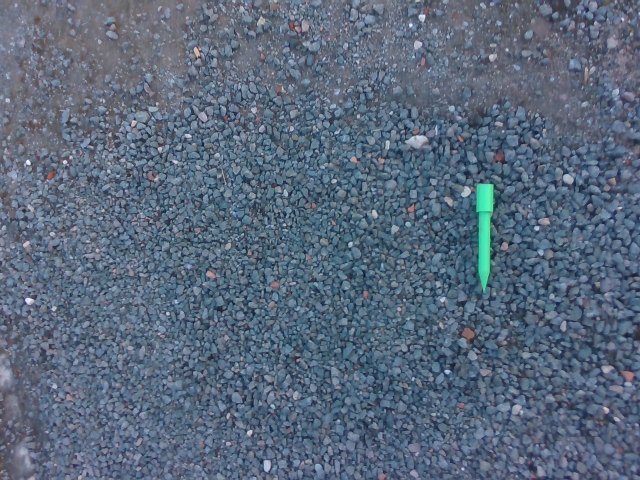Probe: (472, 179, 497, 296)
